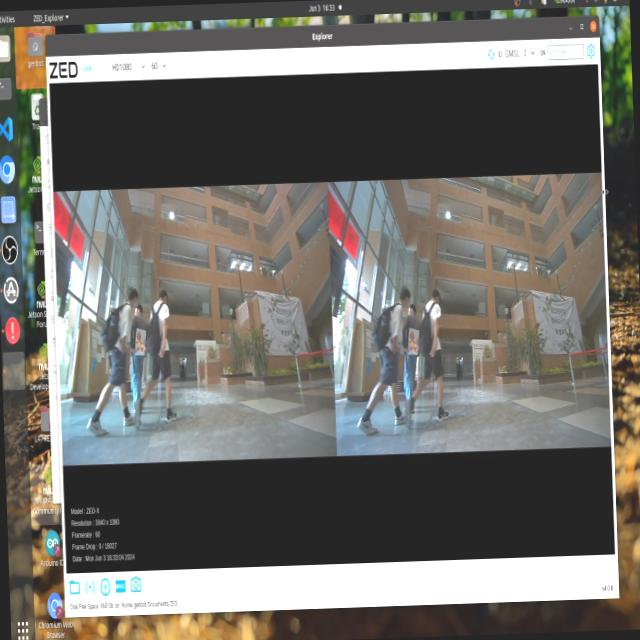red: (130, 322, 147, 358), (406, 322, 419, 356)
